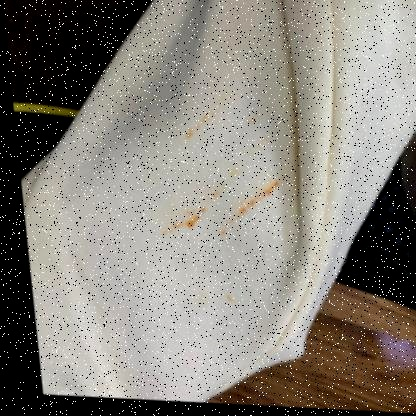kimchi: (263, 174, 289, 197), (187, 113, 208, 135), (179, 211, 202, 230), (241, 196, 261, 217), (217, 288, 230, 302)
